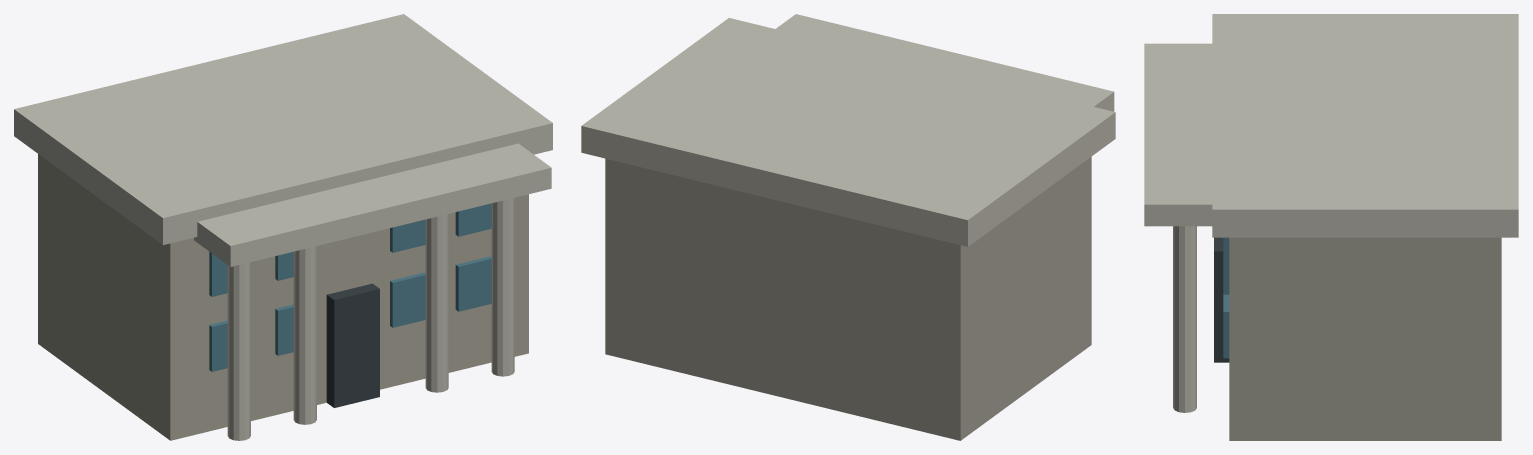
File: civic-01.glb
The picture shows the model from 3 angles, left to right: view 1: azimuth 30°, elevation 25°; view 2: azimuth 150°, elevation 25°; view 3: azimuth 270°, elevation 25°; orthographic projection. The views are drawn at different scales.
Parts seen in each view (by area): view 1: civic-01; view 2: civic-01; view 3: civic-01.
Part boxes in pixels (<box>): civic-01: <box>14,14,552,440</box>; civic-01: <box>581,14,1115,440</box>; civic-01: <box>1144,14,1518,440</box>.
Bounding box in the file's own units: 1 × 0.5699 × 0.8088.
